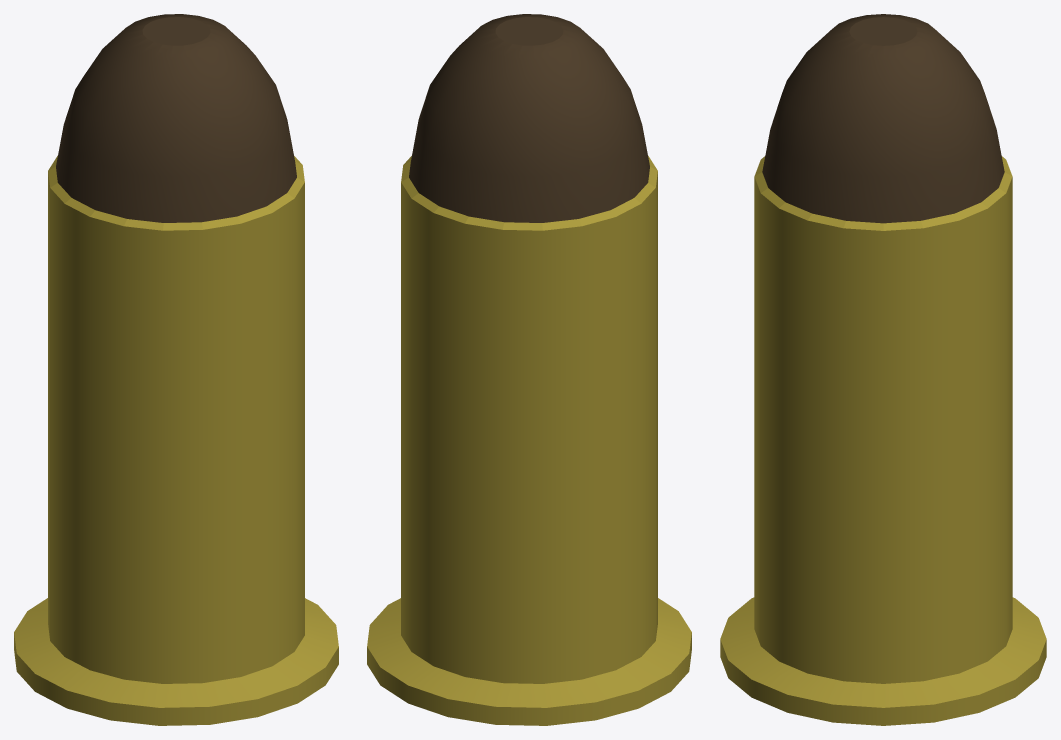
The model's file is SM_Bullet02.fbx.
3 renders of one model, left to right at view 1: azimuth 30°, elevation 25°; view 2: azimuth 150°, elevation 25°; view 3: azimuth 270°, elevation 25°, orthographic.
Parts seen in each view (by area): view 1: SM_Bullet02; view 2: SM_Bullet02; view 3: SM_Bullet02.
Part boxes in pixels (x1,y1,x2,y2): SM_Bullet02: (14, 14, 338, 725); SM_Bullet02: (367, 14, 691, 725); SM_Bullet02: (720, 14, 1046, 725).
Size of the model in its own units: 17.72 by 37.48 by 17.72.
